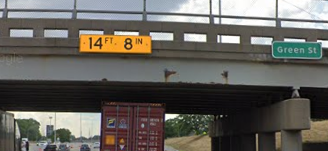1: (85, 34, 93, 50)
4: (91, 35, 104, 50)
8: (121, 35, 134, 51)
overheadsign: (78, 32, 152, 56)
